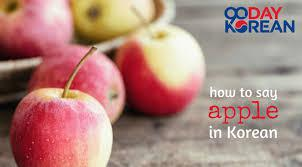apple: (115, 26, 205, 121), (29, 45, 125, 131), (12, 88, 109, 166), (0, 1, 81, 55), (72, 2, 154, 42)
